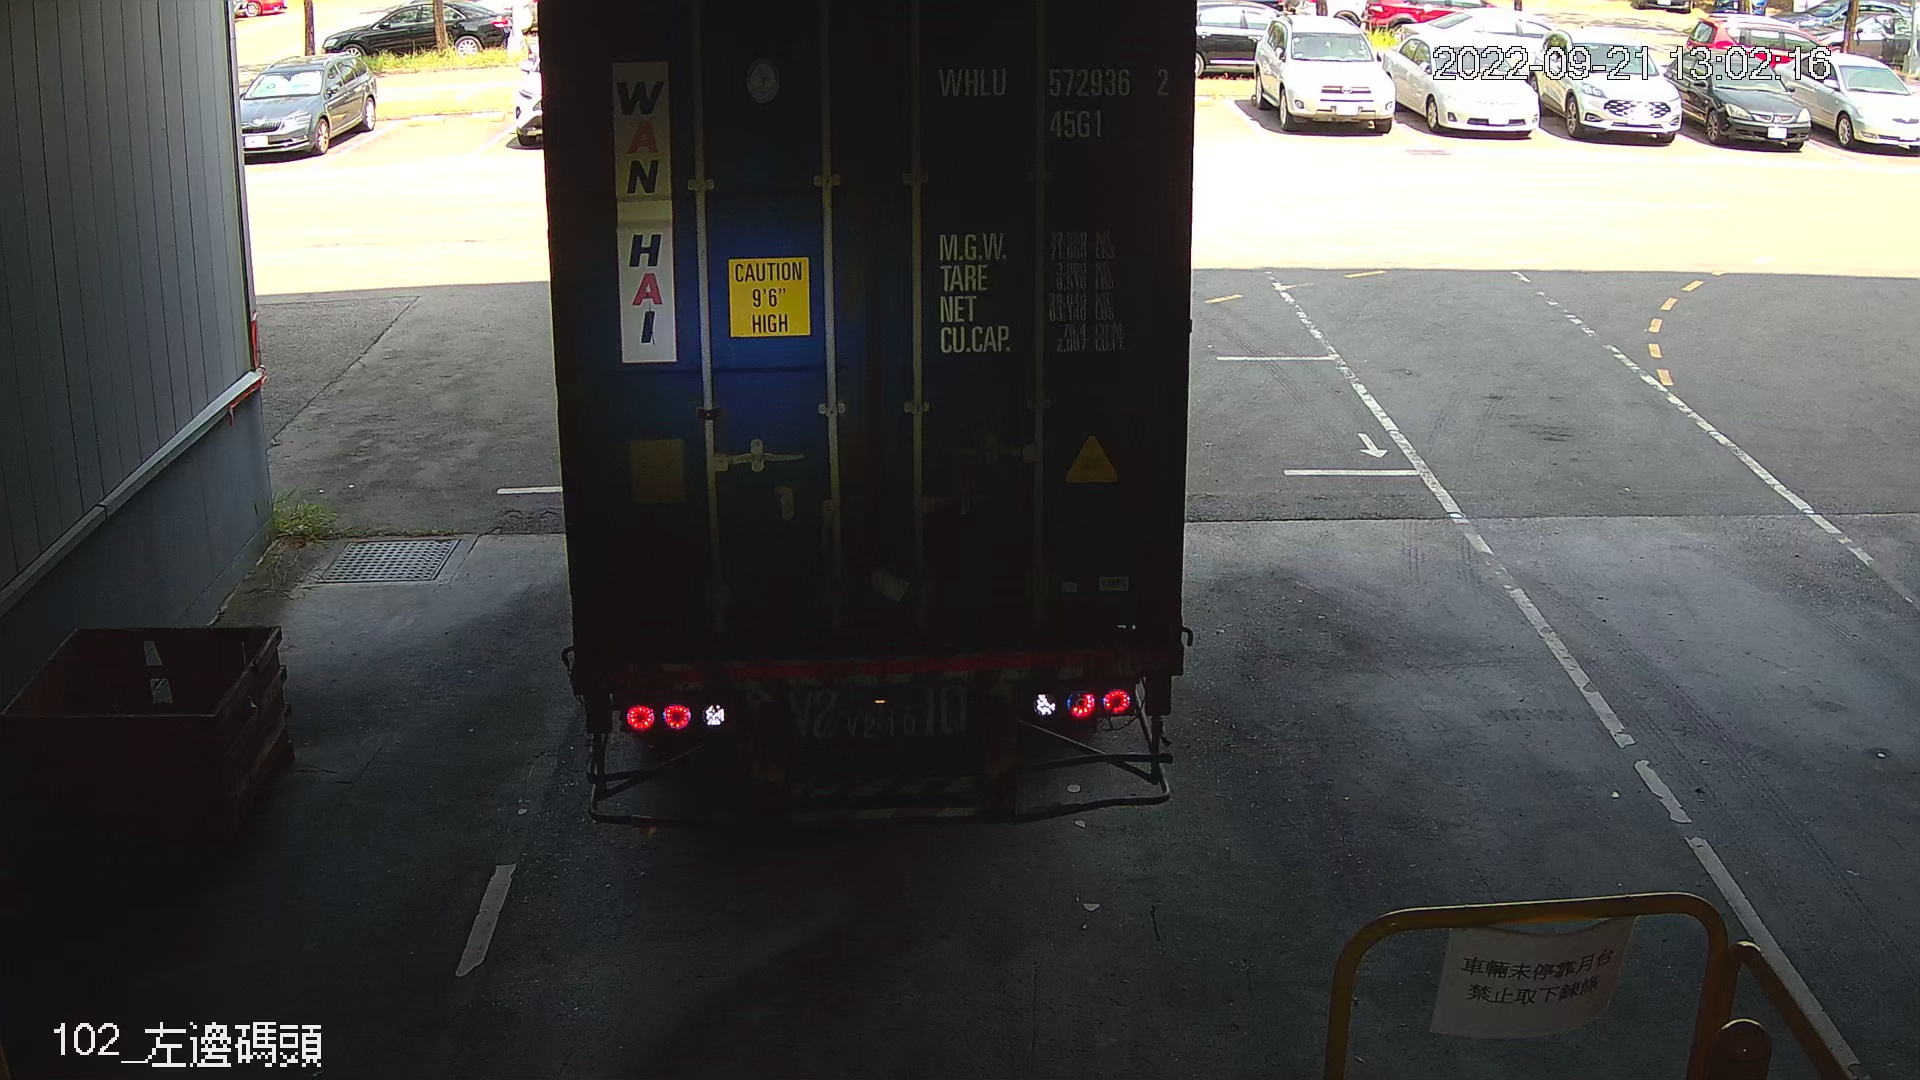container: (928, 55, 1182, 146)
